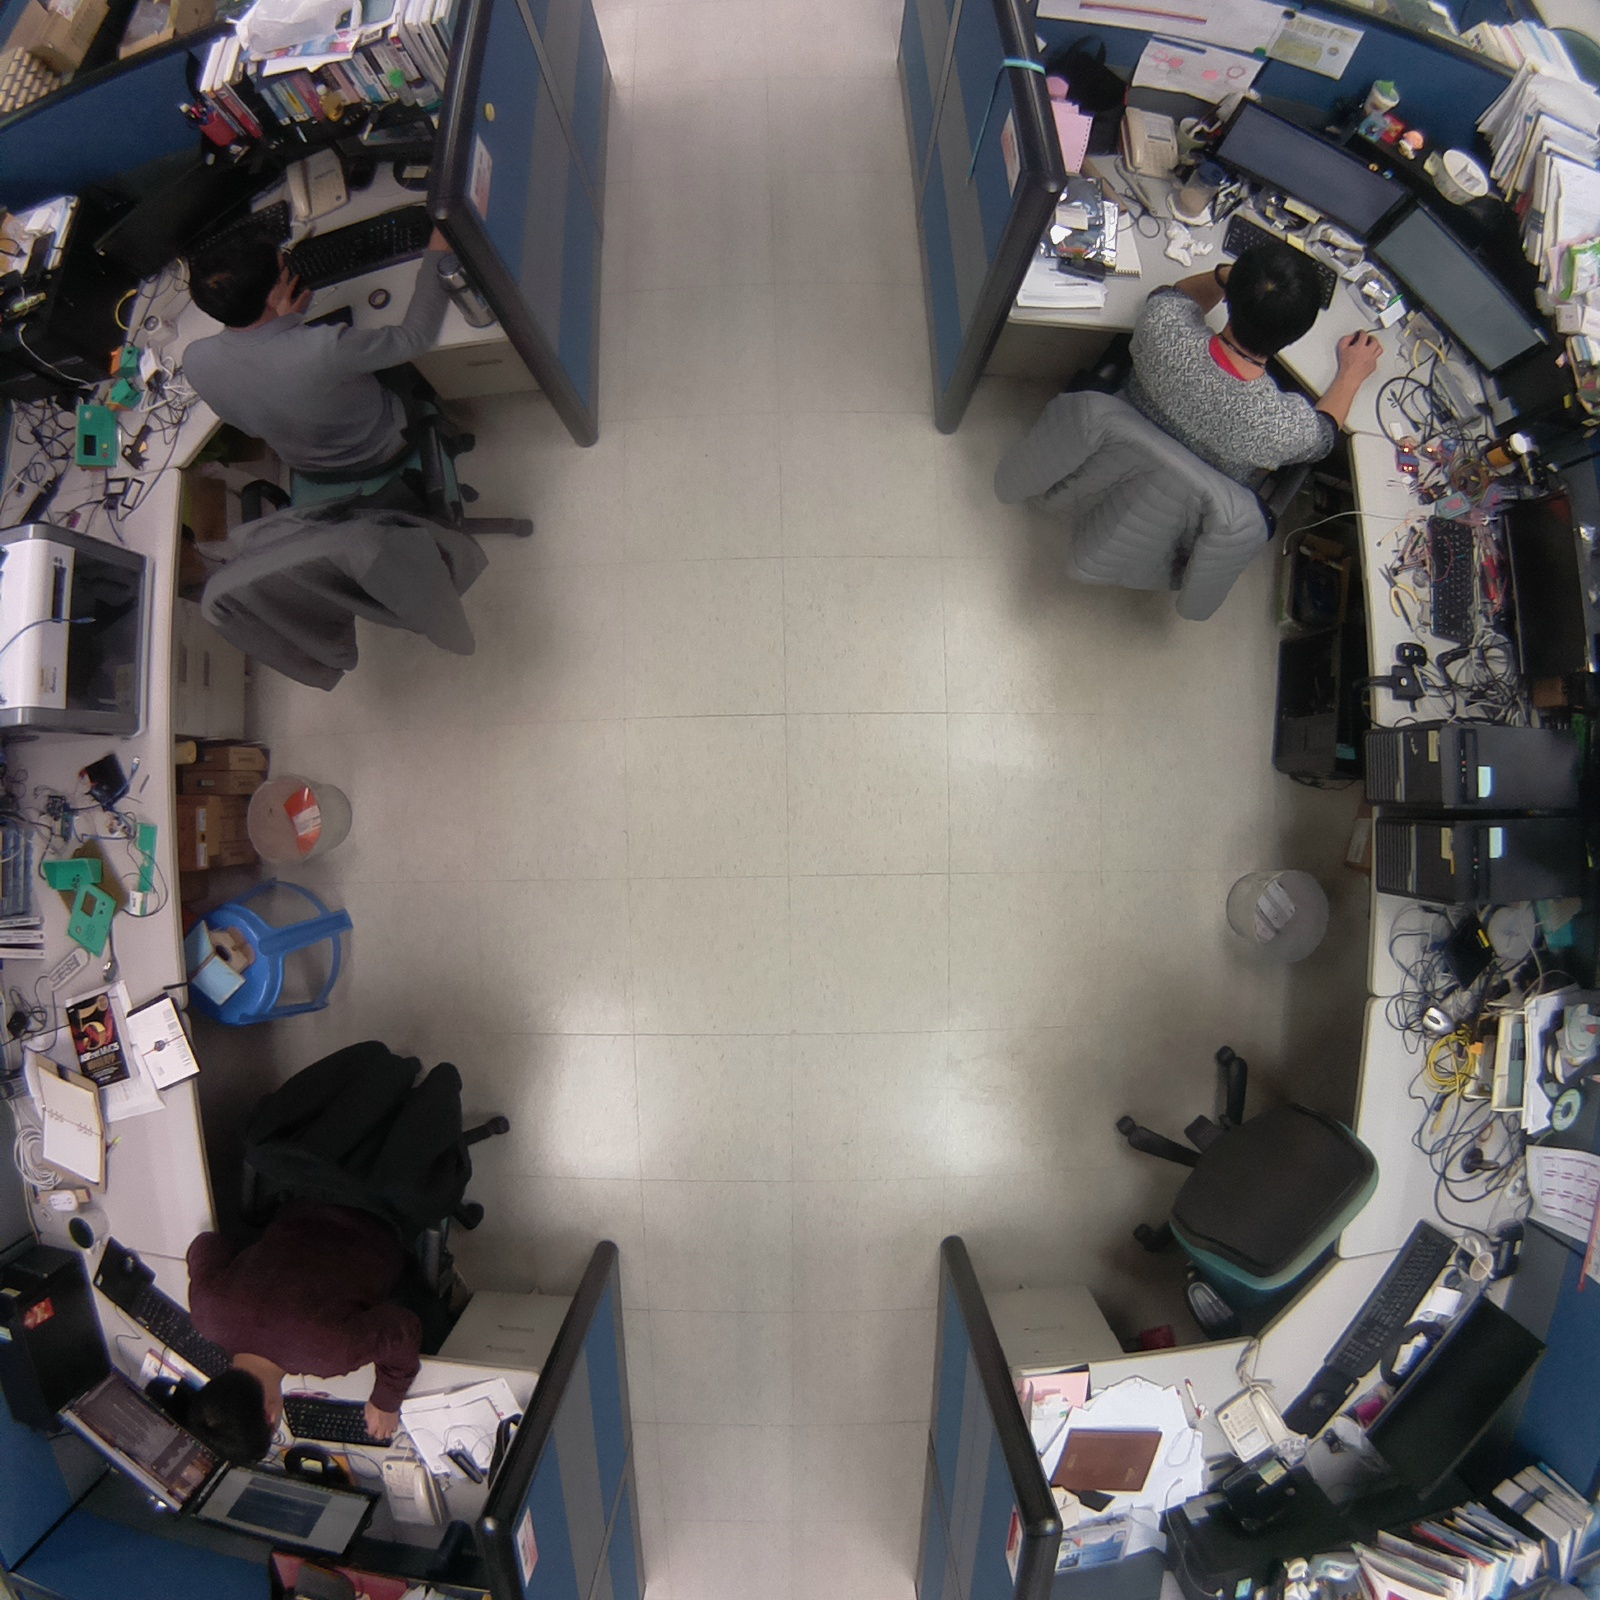chair: (1088, 1034, 1391, 1355)
head: (1219, 238, 1327, 365), (178, 221, 295, 331), (187, 1357, 293, 1476)
sitting: (172, 218, 558, 714), (981, 223, 1387, 645), (158, 1022, 527, 1474)
